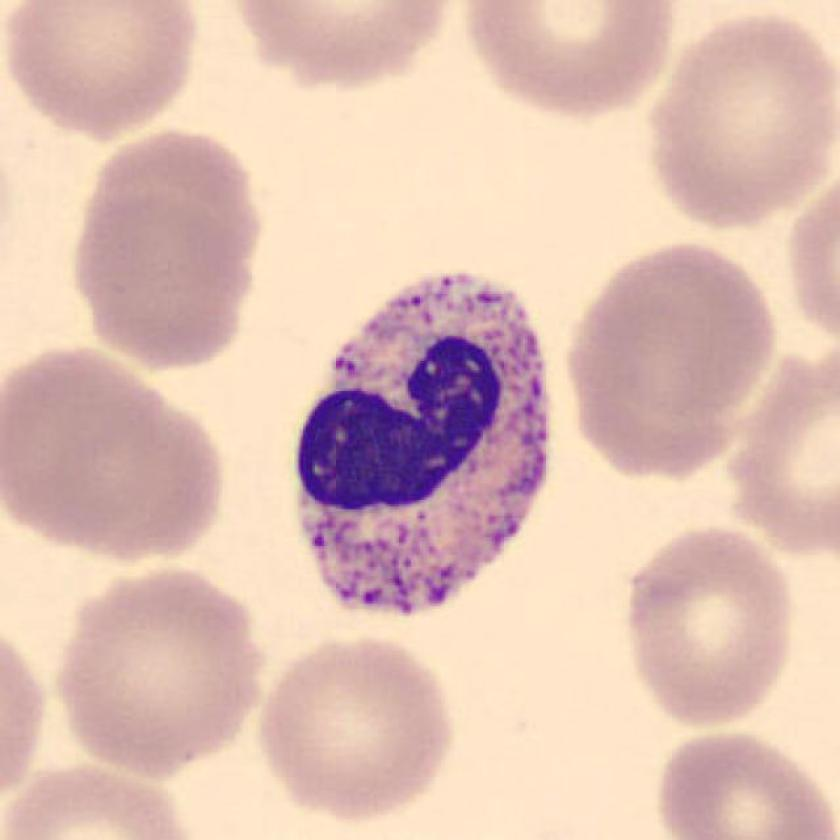neutrophil: (296, 275, 550, 613)
